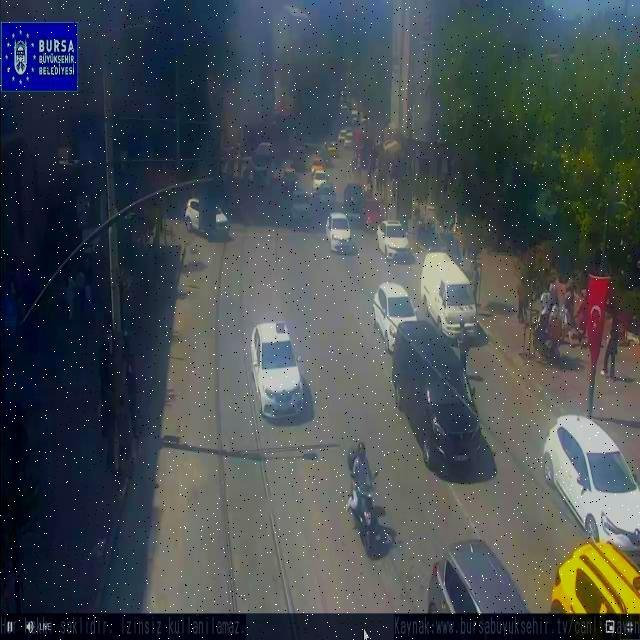Car: (540, 415, 640, 550), (251, 321, 304, 421), (374, 282, 421, 352), (375, 220, 410, 260), (326, 213, 354, 253)
Cycle: (348, 468, 382, 552)
Van: (392, 320, 480, 473), (421, 252, 476, 336)
